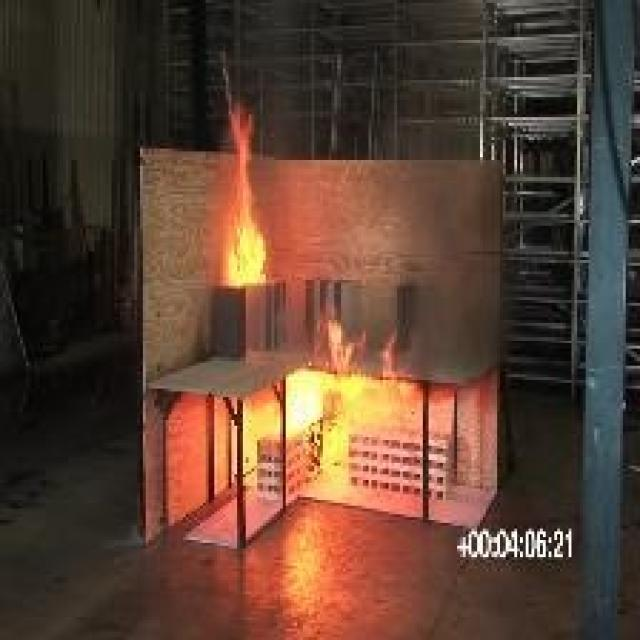fire: (194, 89, 309, 314), (257, 342, 377, 498)
